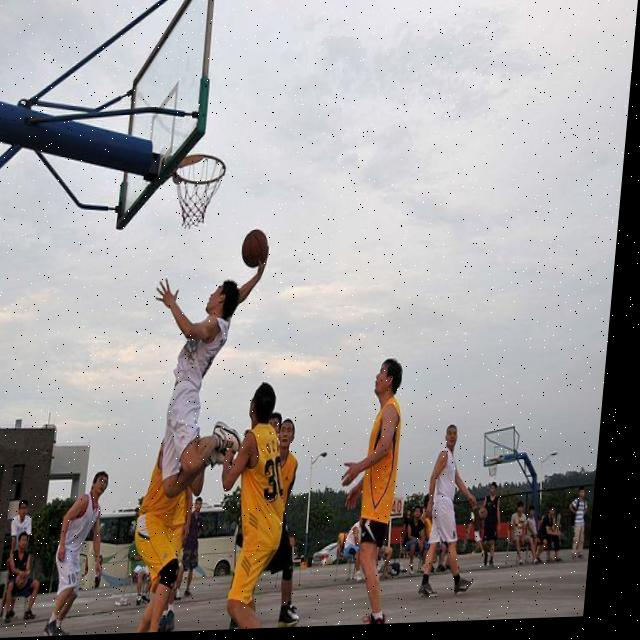basketball: (239, 228, 270, 269)
hoop: (167, 147, 230, 234)
